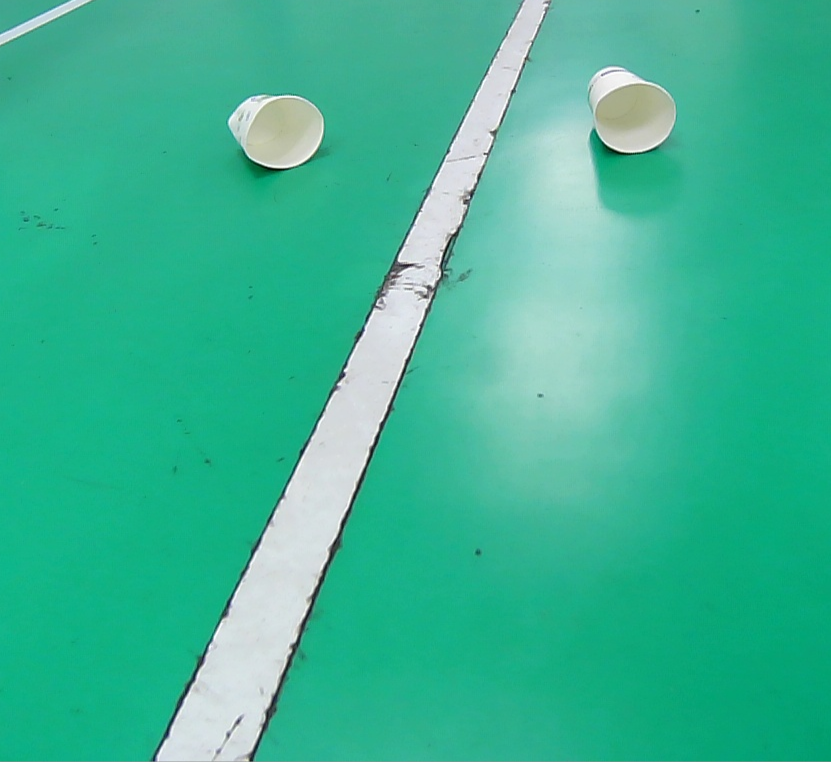papercup: (584, 63, 679, 157), (224, 88, 327, 170)
